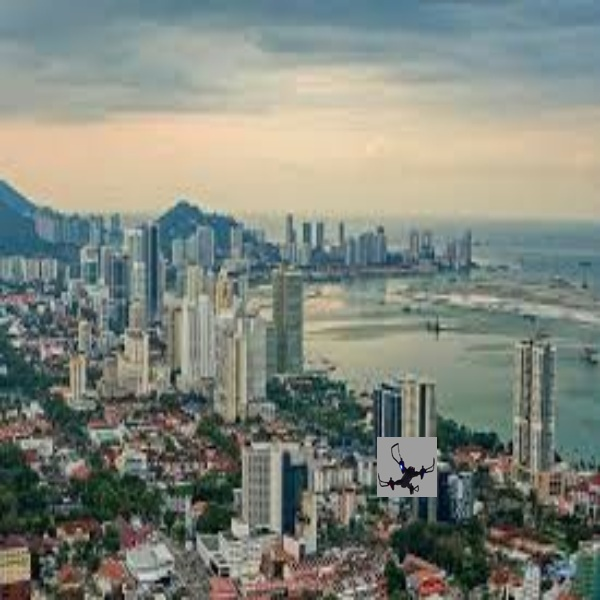drone: (376, 434, 438, 497)
